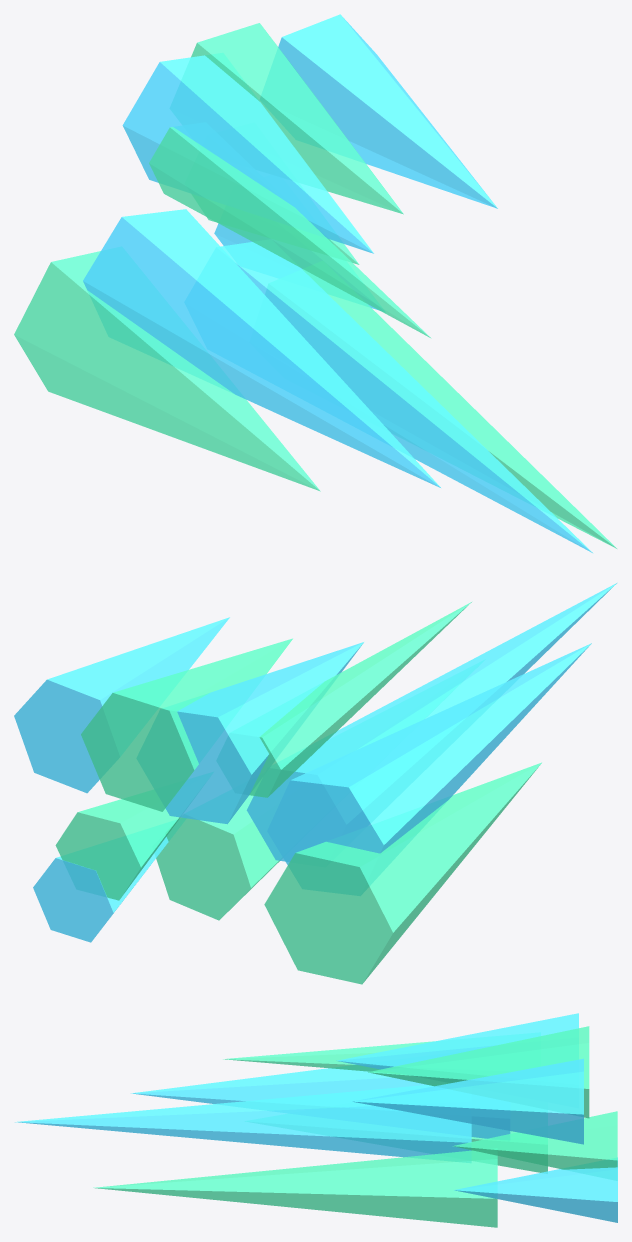
The model's file is 08_Beryl_Crystal_Cluster_Large.glb.
3 renders of one model, top to bottom at view 1: azimuth 30°, elevation 25°; view 2: azimuth 150°, elevation 25°; view 3: azimuth 270°, elevation 25°, orthographic. The views are drawn at different scales.
Parts seen in each view (by area): view 1: 08_Beryl_Crystal_Cluster_Large_05, 08_Beryl_Crystal_Cluster_Large_06, 08_Beryl_Crystal_Cluster_Large_03, 08_Beryl_Crystal_Cluster_Large_01, 08_Beryl_Crystal_Cluster_Large_07, 08_Beryl_Crystal_Cluster_Large_04, 08_Beryl_Crystal_Cluster_Large_02, 08_Beryl_Crystal_Cluster_Large_08, 08_Beryl_Crystal_Cluster_Large_09; view 2: 08_Beryl_Crystal_Cluster_Large_05, 08_Beryl_Crystal_Cluster_Large_06, 08_Beryl_Crystal_Cluster_Large_03, 08_Beryl_Crystal_Cluster_Large_01, 08_Beryl_Crystal_Cluster_Large_02, 08_Beryl_Crystal_Cluster_Large_07, 08_Beryl_Crystal_Cluster_Large_04, 08_Beryl_Crystal_Cluster_Large_08, 08_Beryl_Crystal_Cluster_Large_09, 08_Beryl_Crystal_Cluster_Large_00; view 3: 08_Beryl_Crystal_Cluster_Large_07, 08_Beryl_Crystal_Cluster_Large_08, 08_Beryl_Crystal_Cluster_Large_01, 08_Beryl_Crystal_Cluster_Large_03, 08_Beryl_Crystal_Cluster_Large_02, 08_Beryl_Crystal_Cluster_Large_05, 08_Beryl_Crystal_Cluster_Large_09, 08_Beryl_Crystal_Cluster_Large_00, 08_Beryl_Crystal_Cluster_Large_04, 08_Beryl_Crystal_Cluster_Large_06.
Part boxes in pixels (bbox=[...]): 08_Beryl_Crystal_Cluster_Large_05: bbox=[83, 209, 440, 487]; 08_Beryl_Crystal_Cluster_Large_06: bbox=[14, 251, 320, 491]; 08_Beryl_Crystal_Cluster_Large_03: bbox=[122, 53, 373, 253]; 08_Beryl_Crystal_Cluster_Large_01: bbox=[260, 14, 497, 208]; 08_Beryl_Crystal_Cluster_Large_07: bbox=[220, 240, 593, 553]; 08_Beryl_Crystal_Cluster_Large_04: bbox=[149, 127, 431, 338]; 08_Beryl_Crystal_Cluster_Large_02: bbox=[191, 23, 403, 214]; 08_Beryl_Crystal_Cluster_Large_08: bbox=[302, 269, 616, 548]; 08_Beryl_Crystal_Cluster_Large_09: bbox=[214, 223, 384, 311]; 08_Beryl_Crystal_Cluster_Large_05: bbox=[267, 643, 591, 895]; 08_Beryl_Crystal_Cluster_Large_06: bbox=[264, 762, 541, 984]; 08_Beryl_Crystal_Cluster_Large_03: bbox=[137, 642, 363, 824]; 08_Beryl_Crystal_Cluster_Large_01: bbox=[14, 617, 229, 793]; 08_Beryl_Crystal_Cluster_Large_02: bbox=[81, 638, 292, 811]; 08_Beryl_Crystal_Cluster_Large_07: bbox=[246, 582, 617, 861]; 08_Beryl_Crystal_Cluster_Large_04: bbox=[249, 601, 472, 797]; 08_Beryl_Crystal_Cluster_Large_08: bbox=[156, 795, 279, 920]; 08_Beryl_Crystal_Cluster_Large_09: bbox=[33, 818, 184, 942]; 08_Beryl_Crystal_Cluster_Large_00: bbox=[55, 799, 180, 900]; 08_Beryl_Crystal_Cluster_Large_07: bbox=[15, 1083, 471, 1162]; 08_Beryl_Crystal_Cluster_Large_08: bbox=[93, 1150, 497, 1227]; 08_Beryl_Crystal_Cluster_Large_01: bbox=[352, 1058, 583, 1144]; 08_Beryl_Crystal_Cluster_Large_03: bbox=[336, 1013, 578, 1082]; 08_Beryl_Crystal_Cluster_Large_02: bbox=[368, 1026, 589, 1118]; 08_Beryl_Crystal_Cluster_Large_05: bbox=[131, 1065, 510, 1139]; 08_Beryl_Crystal_Cluster_Large_09: bbox=[454, 1157, 617, 1222]; 08_Beryl_Crystal_Cluster_Large_00: bbox=[452, 1111, 617, 1169]; 08_Beryl_Crystal_Cluster_Large_04: bbox=[223, 1041, 434, 1071]; 08_Beryl_Crystal_Cluster_Large_06: bbox=[471, 1131, 547, 1172].
Size of the model in its own units: 3.39 by 2.42 by 7.04.
